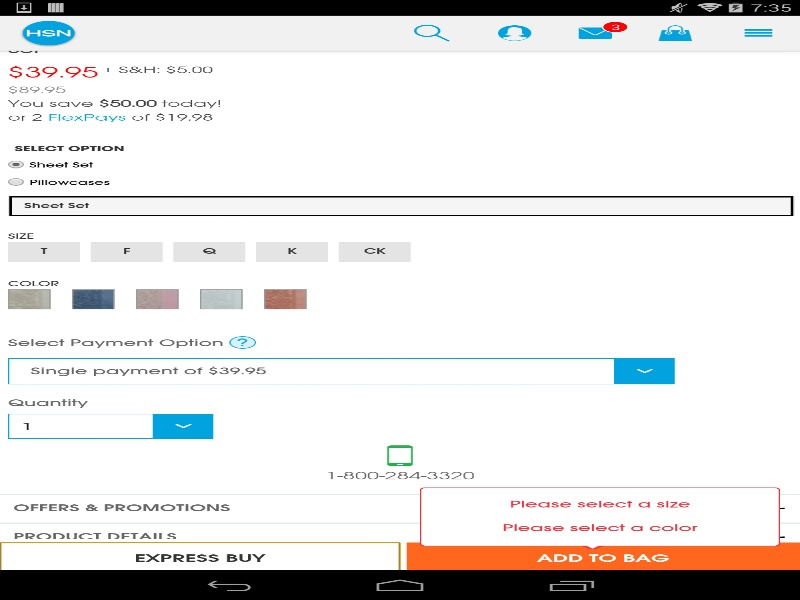Button: (8, 483, 674, 510), (0, 542, 400, 573), (406, 542, 800, 573), (8, 539, 213, 564)
